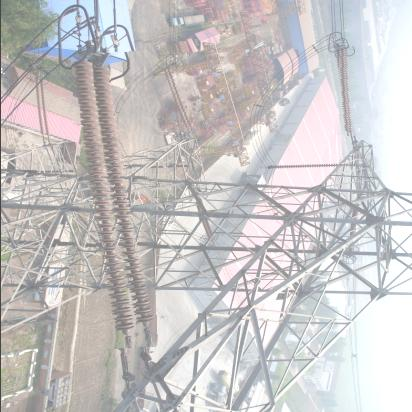insulator: (75, 53, 155, 351), (334, 47, 360, 137), (168, 66, 192, 136)
